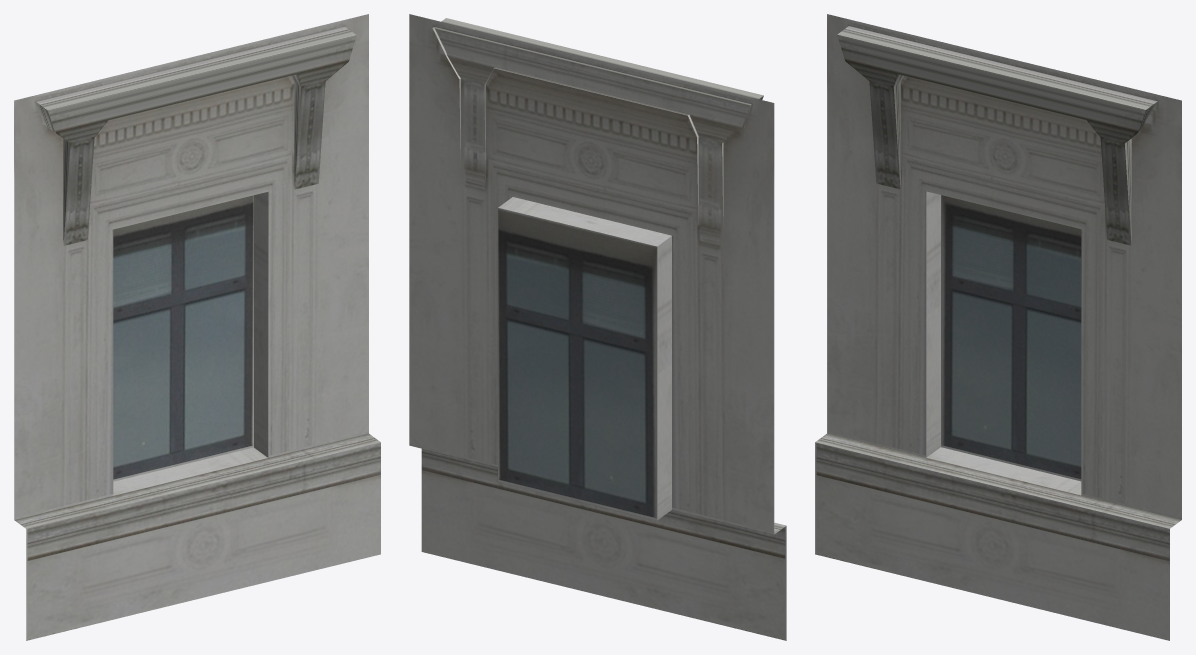
The model's file is win1.obj.
3 renders of one model, left to right at view 1: azimuth 30°, elevation 25°; view 2: azimuth 150°, elevation 25°; view 3: azimuth 330°, elevation 25°, orthographic. The views are drawn at different scales.
Parts seen in each view (by area): view 1: polySurface105; view 2: polySurface105; view 3: polySurface105.
Part boxes in pixels (x1,y1,x2,y2): polySurface105: [14, 14, 380, 640]; polySurface105: [409, 14, 786, 640]; polySurface105: [815, 14, 1181, 640].
Size of the model in its own units: 0.3449 by 0.4938 by 0.0445.
1 material, 1 textured.
